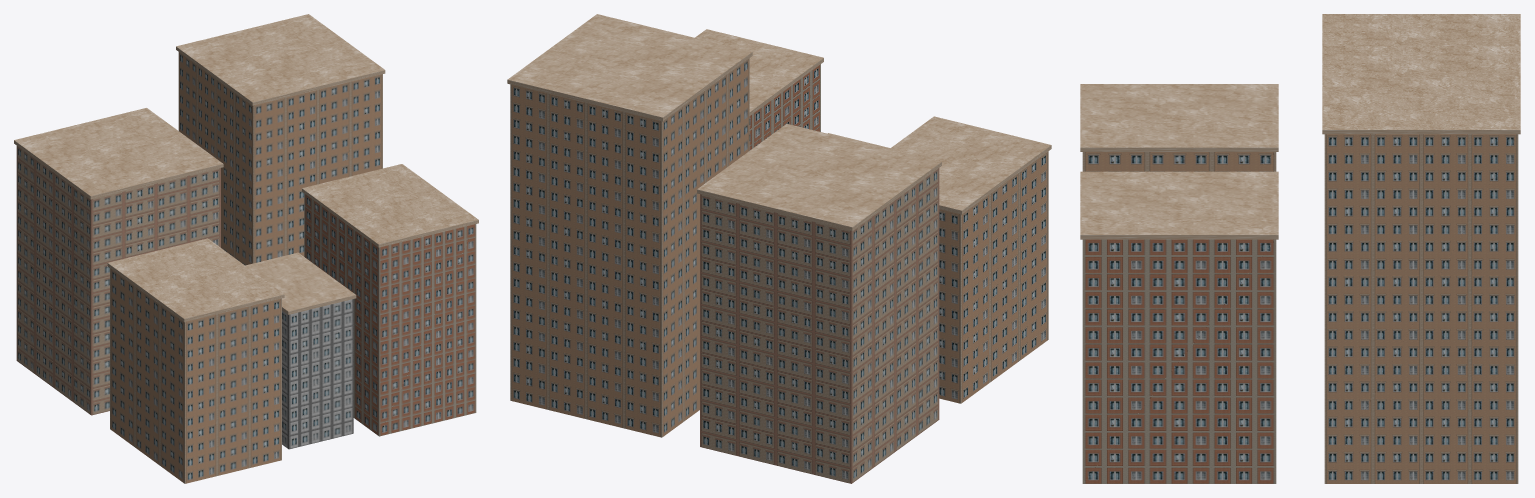
Rendered from SquareBlock.obj.
3 views of the same model, side by side, from view 1: azimuth 30°, elevation 25°; view 2: azimuth 150°, elevation 25°; view 3: azimuth 270°, elevation 25° (orthographic). The views are drawn at different scales.
Visible parts, largest first — view 1: Box013, Box014, Box016, Box012, Box011, Box008, Box015, Box017, Box010, Box009; view 2: Box012, Box013, Box014, Box011, Box008, Box017, Box010, Box016; view 3: Box012, Box016, Box011, Box010, Box017, Box008, Box014.
Part boxes in pixels (<box>): Box013: <box>16,146,220,415</box>; Box014: <box>110,268,281,483</box>; Box016: <box>304,194,476,436</box>; Box012: <box>178,52,382,265</box>; Box011: <box>176,14,385,105</box>; Box008: <box>14,108,223,199</box>; Box015: <box>282,299,353,449</box>; Box017: <box>107,238,284,322</box>; Box010: <box>302,164,478,247</box>; Box009: <box>245,252,356,314</box>; Box012: <box>510,58,749,437</box>; Box013: <box>700,168,939,483</box>; Box014: <box>939,151,1048,403</box>; Box011: <box>507,14,752,121</box>; Box008: <box>697,124,941,231</box>; Box017: <box>890,116,1051,214</box>; Box010: <box>695,29,823,115</box>; Box016: <box>749,64,820,150</box>; Box012: <box>1324,134,1518,483</box>; Box016: <box>1082,239,1276,483</box>; Box011: <box>1322,46,1520,134</box>; Box010: <box>1080,171,1278,239</box>; Box017: <box>1080,84,1278,151</box>; Box008: <box>1322,14,1520,45</box>; Box014: <box>1082,152,1276,171</box>.
Bounding box in the file's own units: 91 × 81 × 91.
Materials: 5 (5 with a texture image).
